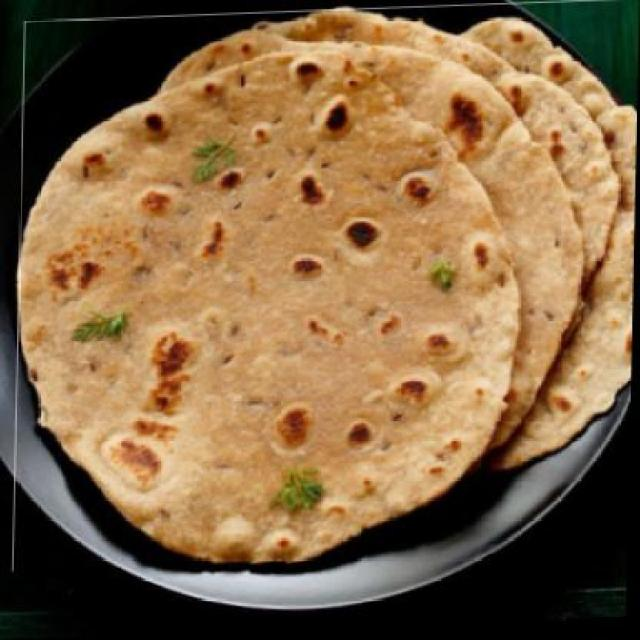chapati: (14, 2, 638, 573)
